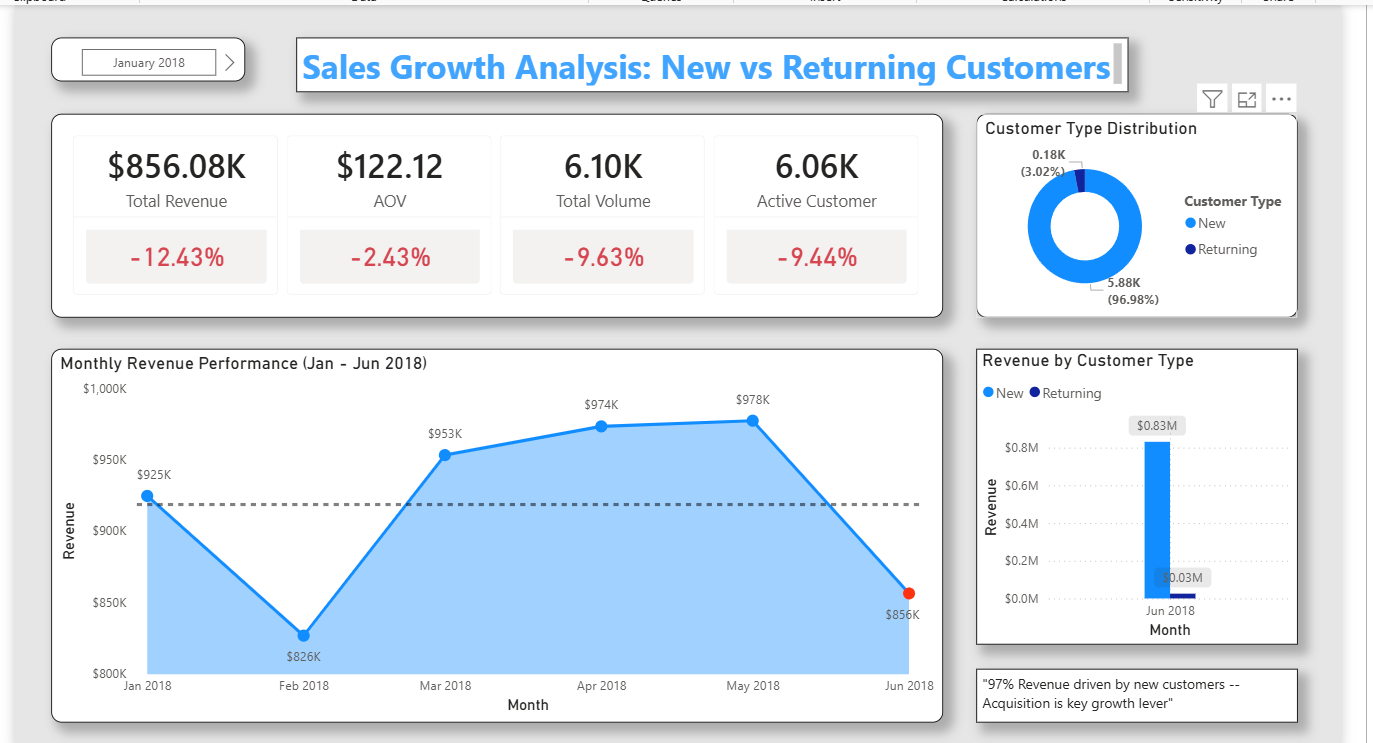

This screenshot's page, from the dashboard's own definition file:
{"tool":"powerbi","page":{"name":"Page 1","canvas":[1280,720],"ordinal":0},"visuals":[{"type":"slicer","fields":{"Values":["C:\\Users\\rinal\\Downloads\\Folder SQL\\_revenue csv.month"]},"box":[35,31.4,187,42.2],"z":0},{"type":"areaChart","title":"Monthly Revenue Performance (Jan - Jun 2018)","fields":{"Category":["C:\\Users\\rinal\\Downloads\\Folder SQL\\_revenue csv.Month"],"Y":["Sum(revenue.revenue)"]},"box":[35,331.5,861.2,361.2],"z":1000},{"type":"cardVisual","fields":{"Data":["Sum(C:\\Users\\rinal\\Downloads\\Folder SQL\\_revenue csv.revenue)","Sum(C:\\Users\\rinal\\Downloads\\Folder SQL\\_metrics csv.aov)","Sum(metrics.volume)","Sum(C:\\Users\\rinal\\Downloads\\Folder SQL\\_data-1773079859170 csv.active_customer)"]},"box":[35,105.1,861.2,196.8],"z":2000},{"type":"donutChart","title":"Customer Type Distribution","fields":{"Category":["C:\\Users\\rinal\\Downloads\\Folder SQL\\_customer_type csv.customer_type"],"Y":["Sum(C:\\Users\\rinal\\Downloads\\Folder SQL\\_customer_type csv.active_customer_type)"]},"box":[927.8,105,310.1,196.6],"z":3000},{"type":"textbox","box":[270.9,31,803.2,52.6],"z":4000},{"type":"clusteredColumnChart","title":"Revenue by Customer Type","fields":{"Category":["type_revenue.month"],"Y":["Sum(type_revenue.revenue)"],"Series":["type_revenue.customer_type"]},"box":[927.8,331.8,310.1,285.9],"z":5000},{"type":"textbox","box":[927.8,640.6,310.1,51.9],"z":6000}]}

Visuals, with their boxes in screenshot pixels (x1, y1, x2, y2):
slicer - C:\Users\rinal\Downloads\Folder SQL\_revenue csv.month: (x1=64, y1=39, x2=255, y2=82)
"Monthly Revenue Performance (Jan - Jun 2018)" areaChart: (x1=64, y1=345, x2=942, y2=713)
cardVisual - Sum(C:\Users\rinal\Downloads\Folder SQL\_revenue csv.revenue) x Sum(C:\Users\rinal\Downloads\Folder SQL\_metrics csv.aov): (x1=64, y1=114, x2=942, y2=315)
"Customer Type Distribution" donutChart: (x1=974, y1=114, x2=1290, y2=314)
textbox: (x1=305, y1=39, x2=1123, y2=92)
"Revenue by Customer Type" clusteredColumnChart: (x1=974, y1=345, x2=1290, y2=636)
textbox: (x1=974, y1=660, x2=1290, y2=713)
